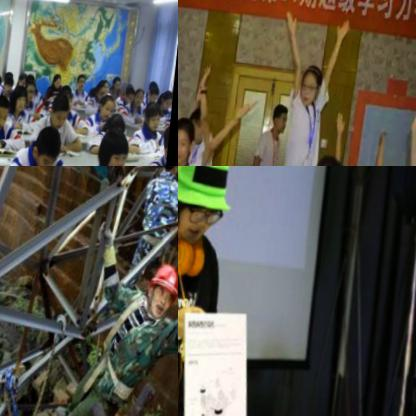head: (178, 166, 237, 244), (34, 121, 66, 166), (101, 124, 135, 166), (301, 56, 326, 106), (50, 86, 75, 125), (178, 116, 199, 161), (191, 104, 213, 141), (145, 94, 167, 129), (309, 146, 347, 166), (273, 100, 292, 132), (109, 104, 129, 131), (61, 79, 79, 108), (0, 90, 14, 126), (103, 89, 121, 117), (15, 81, 30, 108), (27, 75, 41, 99), (163, 81, 177, 105), (98, 74, 111, 95), (137, 82, 150, 101), (152, 79, 163, 98), (103, 73, 115, 90), (79, 68, 89, 88), (6, 67, 19, 82), (128, 81, 140, 97), (55, 66, 65, 85), (114, 69, 125, 86), (7, 74, 17, 92), (21, 67, 31, 82), (28, 67, 37, 80), (0, 70, 6, 88)
helmet: (148, 260, 178, 315)
